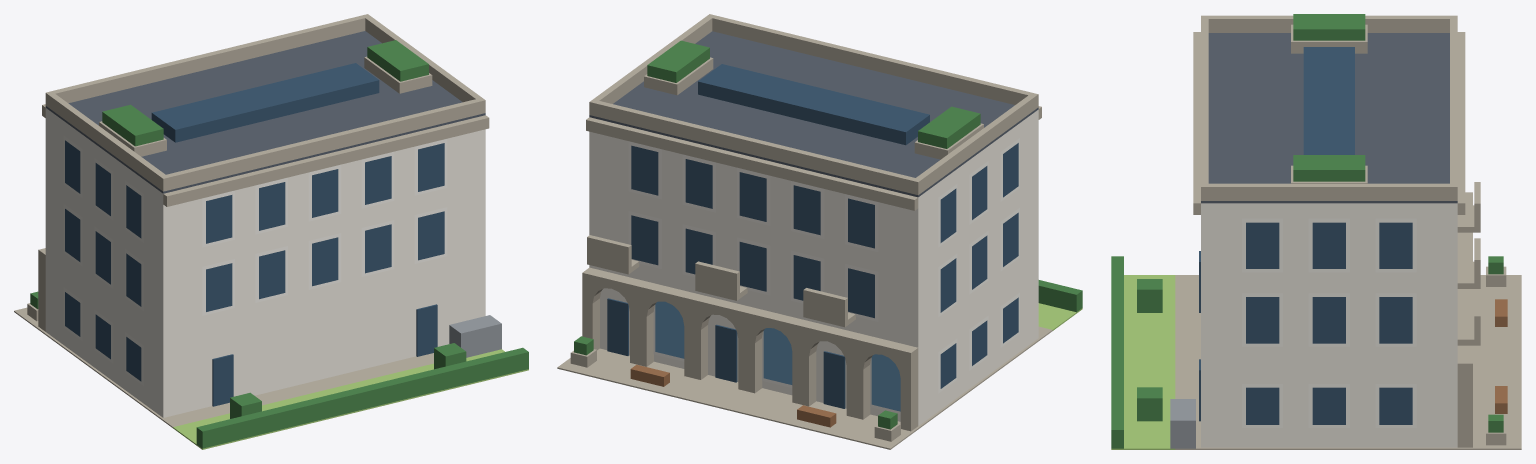
3 views of the same model, side by side, from view 1: azimuth 30°, elevation 25°; view 2: azimuth 150°, elevation 25°; view 3: azimuth 270°, elevation 25° (orthographic). The views are drawn at different scales.
Parts seen in each view (by area): view 1: wall, roof, window_glass (×19), parapet (×4), hedge (×3), roof_light, window_frame (×10), cornice, paving, lawn, door (×2), bin_store (+3 smaller); view 2: wall, roof, window_glass (×19), arcade, parapet (×4), roof_light, paving, cornice, storefront (×3), hedge (×3), window_frame (×7), door (×3) (+4 smaller); view 3: wall, roof, window_glass (×9), paving, parapet (×4), lawn, window_frame (×9), hedge (×3), roof_light, cornice (×2), arcade, tree_spot (×2) (+3 smaller).
Boxes of the visible parts, x1,y1,x2,y2 form: wall: (45,108,485,417); roof: (45,31,485,193); window_glass (×19): (65,140,444,381); parapet (×4): (45,14,485,191); hedge (×3): (102,40,528,448); roof_light: (151,63,379,142); window_frame (×10): (202,139,447,315); cornice: (163,115,489,206); paving: (14,307,433,427); lawn: (173,349,528,449); door (×2): (212,304,437,406); bin_store: (449,315,501,357); wall: (589,109,1038,425); roof: (589,31,1038,197); window_glass (×19): (631,143,1018,388); arcade: (582,267,918,431); parapet (×4): (589,14,1038,195); roof_light: (698,64,929,145); paving: (557,326,1052,449); cornice: (586,117,918,210); storefront (×3): (655,301,900,411); hedge (×3): (647,40,1082,312); window_frame (×7): (628,141,878,295); door (×3): (607,298,845,408); wall: (1201,203,1457,447); roof: (1201,33,1457,203); window_glass (×9): (1246,222,1412,424); paving: (1175,275,1521,449); parapet (×4): (1201,15,1457,200); lawn: (1111,275,1175,449); window_frame (×9): (1242,218,1416,427); hedge (×3): (1111,14,1365,448); roof_light: (1303,47,1354,154); cornice (×2): (1193,32,1465,214); arcade: (1457,192,1472,447); tree_spot (×2): (1137,279,1162,421).
Size of the model in its own units: 16 by 11.66 by 16.
